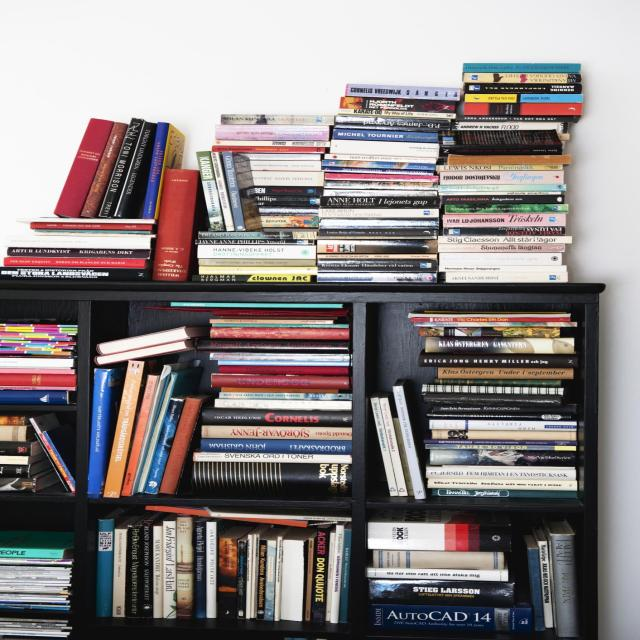Books: (152, 169, 205, 281), (192, 461, 351, 498), (368, 510, 511, 551), (54, 119, 113, 218), (98, 118, 145, 218), (370, 604, 532, 632), (81, 122, 128, 218), (368, 579, 515, 608), (543, 520, 579, 638), (115, 121, 156, 219), (143, 122, 184, 219), (30, 414, 75, 492), (96, 509, 126, 618), (440, 130, 562, 156), (218, 526, 252, 618), (280, 529, 314, 621), (113, 516, 143, 617), (201, 408, 351, 426), (244, 524, 271, 619), (372, 551, 505, 570), (199, 439, 351, 454), (210, 374, 351, 390), (201, 425, 351, 440), (141, 512, 162, 619), (197, 151, 225, 231), (1, 266, 150, 281), (6, 235, 154, 250), (205, 519, 227, 619), (329, 139, 440, 158), (340, 96, 457, 114), (257, 529, 280, 620), (312, 525, 333, 622), (524, 535, 545, 631), (1, 531, 73, 559), (195, 339, 349, 352), (214, 124, 331, 141), (334, 115, 451, 132), (442, 212, 566, 228), (534, 529, 554, 628), (346, 84, 460, 101), (211, 151, 235, 231), (5, 256, 150, 269), (194, 452, 351, 464), (440, 170, 564, 185), (366, 568, 509, 581), (316, 239, 438, 254), (197, 245, 316, 260), (177, 515, 194, 619), (222, 151, 244, 231), (21, 218, 156, 231), (126, 520, 144, 617), (8, 248, 152, 260), (460, 102, 582, 116), (329, 522, 345, 624), (440, 252, 562, 265), (319, 196, 440, 209), (194, 518, 209, 619), (214, 399, 351, 410), (163, 515, 177, 618), (218, 365, 349, 376), (318, 259, 438, 271), (462, 72, 582, 84), (209, 351, 351, 361), (333, 129, 438, 142), (443, 271, 567, 282), (442, 194, 566, 205), (1, 469, 60, 492), (265, 529, 280, 619), (218, 391, 351, 401), (320, 218, 440, 229), (338, 109, 457, 120), (338, 524, 351, 622), (220, 114, 334, 125), (442, 226, 566, 236), (443, 204, 567, 214), (447, 155, 571, 165), (455, 121, 567, 132), (318, 208, 440, 218), (316, 272, 438, 282), (438, 235, 571, 244), (199, 230, 318, 240), (462, 62, 581, 72), (464, 84, 582, 94), (321, 160, 436, 170), (326, 172, 438, 182), (325, 154, 436, 164), (152, 520, 163, 619), (318, 229, 438, 238), (199, 266, 318, 275), (252, 171, 323, 186), (212, 145, 327, 154), (323, 181, 438, 190), (323, 189, 438, 198), (438, 244, 566, 252), (438, 184, 566, 192), (194, 274, 316, 282), (17, 218, 156, 225), (212, 140, 331, 148), (1, 459, 51, 478), (464, 94, 582, 102), (438, 265, 567, 272), (436, 164, 564, 171), (237, 536, 248, 617), (323, 168, 434, 176), (457, 115, 581, 122), (35, 230, 156, 237), (261, 215, 319, 229), (200, 259, 316, 266), (242, 186, 323, 196), (250, 160, 321, 171), (195, 239, 316, 245), (318, 254, 438, 260), (1, 440, 43, 456), (254, 196, 319, 206), (259, 206, 318, 216), (0, 452, 45, 465), (241, 154, 321, 161), (1, 425, 36, 441), (1, 414, 30, 426)
